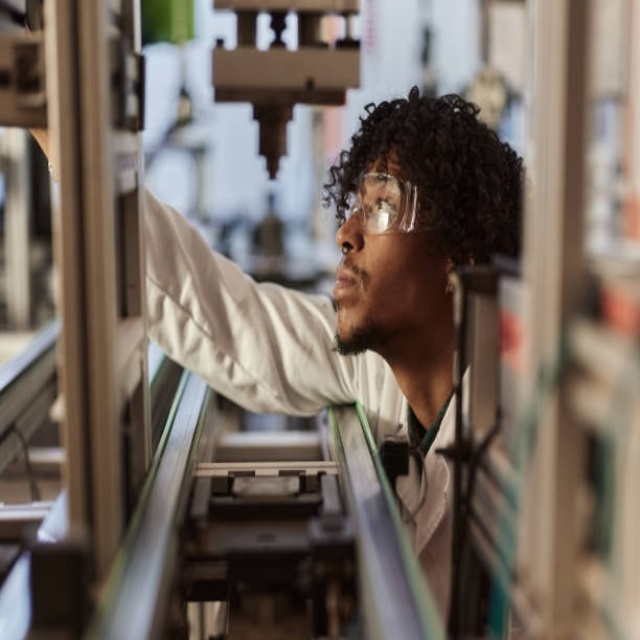Gafas: (341, 172, 433, 236)
Sin_mascara: (323, 258, 374, 350)
